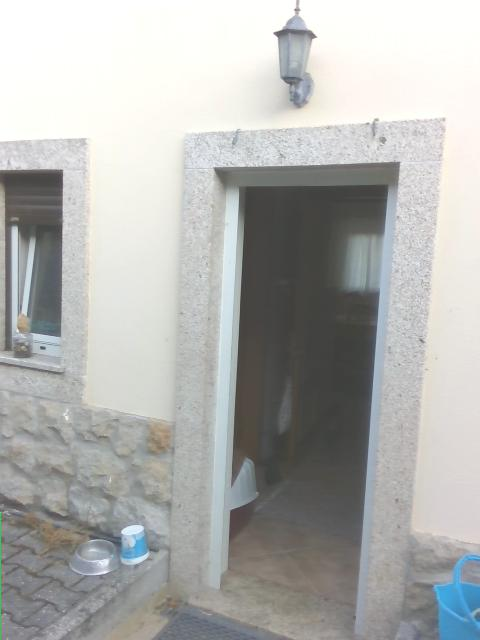open_door: (204, 161, 399, 638)
